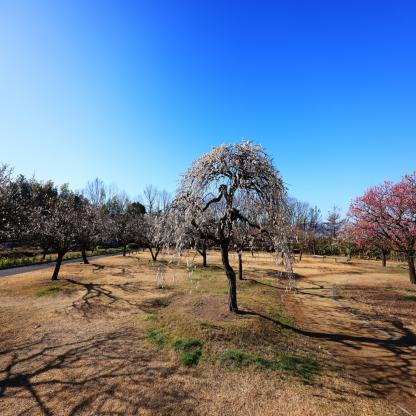Ume: (145, 135, 300, 303), (0, 159, 144, 252), (339, 167, 416, 260)
